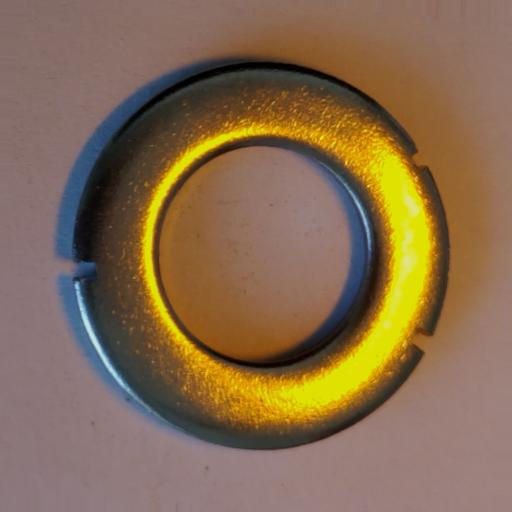burr: (409, 326, 434, 354), (73, 260, 98, 279), (411, 152, 428, 170)
